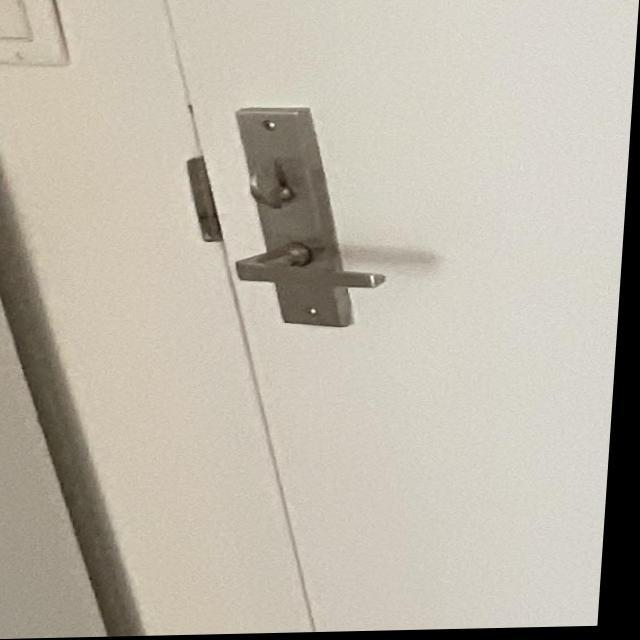door_handle: (202, 229, 402, 327)
